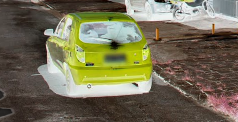car: (44, 10, 154, 95)
